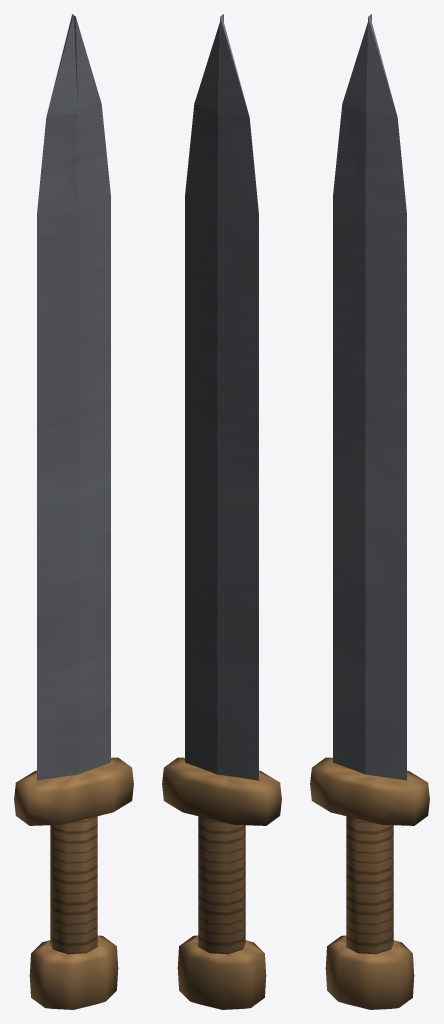
The model's file is gladius.glb.
3 renders of one model, left to right at view 1: azimuth 30°, elevation 25°; view 2: azimuth 150°, elevation 25°; view 3: azimuth 330°, elevation 25°, orthographic.
Visible parts, largest first — view 1: gladius; view 2: gladius; view 3: gladius.
Boxes of the visible parts, x1=… form: gladius: x1=14, y1=14, x2=133, y2=1009; gladius: x1=162, y1=14, x2=281, y2=1009; gladius: x1=310, y1=14, x2=429, y2=1009.
Bounding box in the file's own units: 0.0798 × 0.71 × 0.0419.
1 material, 1 textured.
